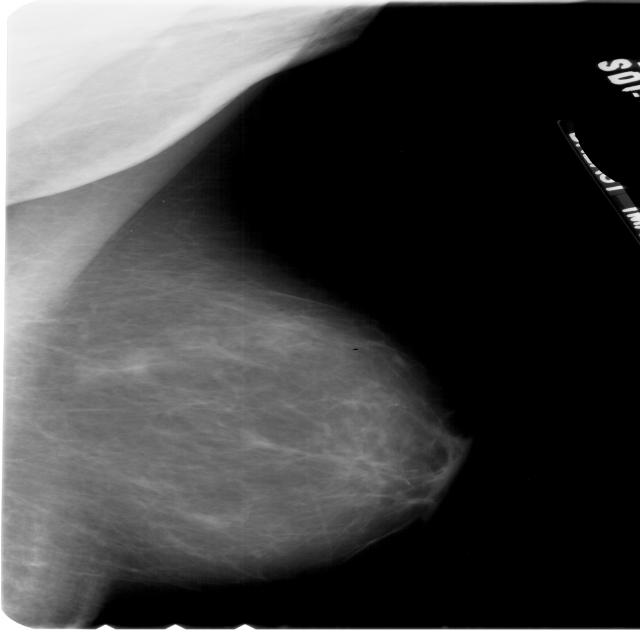normal: (0, 189, 476, 599)
